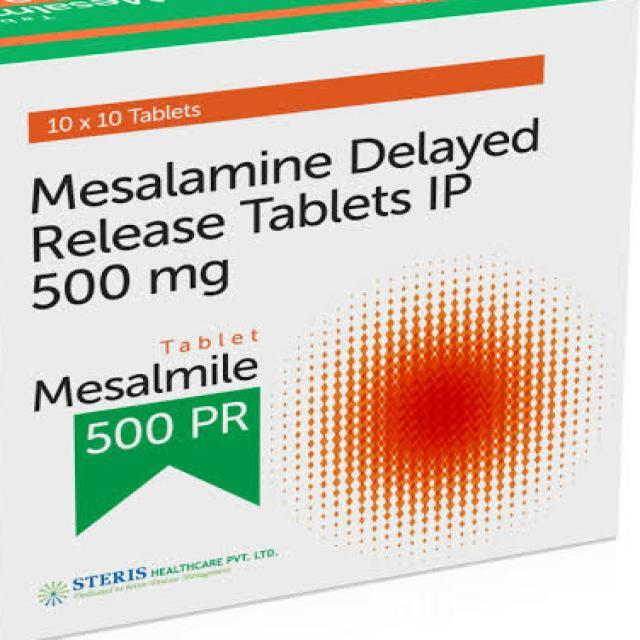drug-name: (25, 350, 262, 418)
